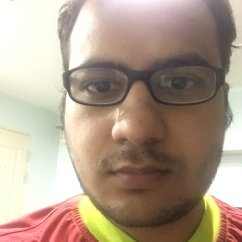glasses: (62, 63, 226, 112)
